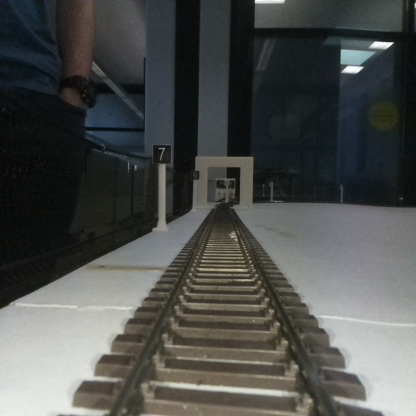black-info-6: (190, 169, 199, 211)
black-info-7: (152, 143, 171, 232)
